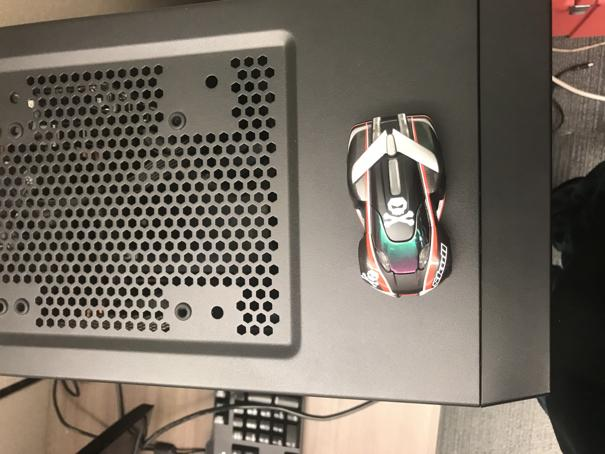Skull: (347, 112, 453, 299)
